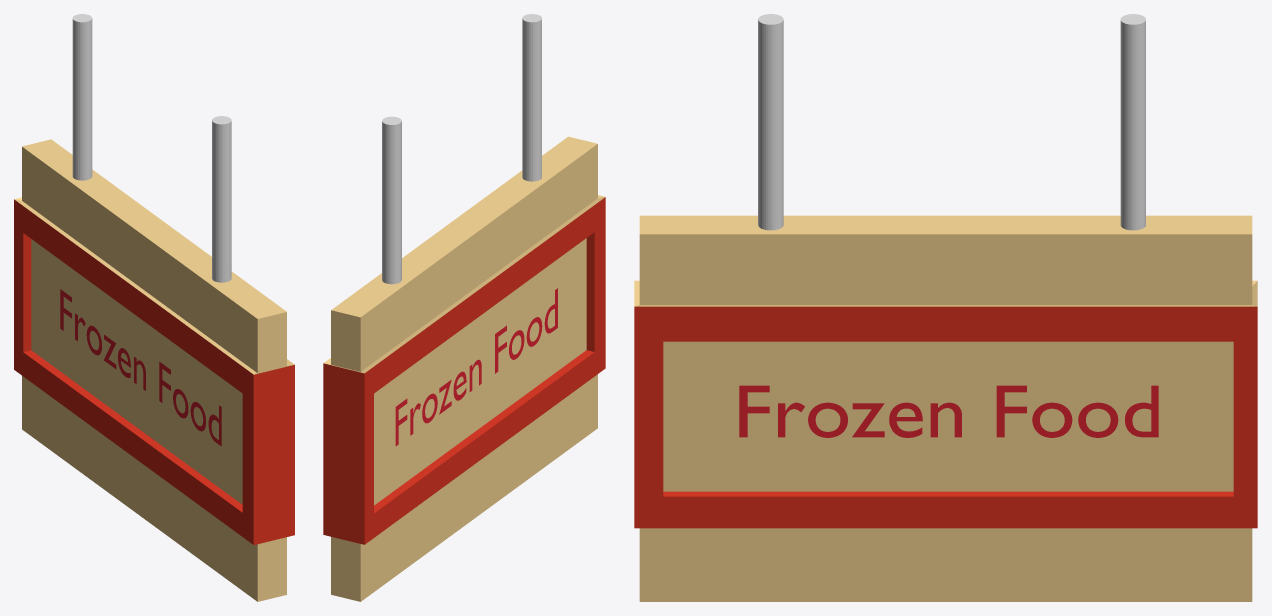
The model's file is frozenFoodSign.fbx.
3 views of the same model, side by side, from view 1: azimuth 30°, elevation 25°; view 2: azimuth 150°, elevation 25°; view 3: azimuth 270°, elevation 25° (orthographic). The views are drawn at different scales.
Parts seen in each view (by area): view 1: baseSign, Cylinder.001, Cylinder.000, BaseText.001; view 2: baseSign, Cylinder.001, Cylinder.000, BaseText.001; view 3: baseSign, BaseText.000, Cylinder.001, Cylinder.000.
Boxes of the visible parts, bbox=[...] form: baseSign: bbox=[14, 139, 294, 601]; Cylinder.001: bbox=[72, 14, 92, 180]; Cylinder.000: bbox=[212, 116, 231, 282]; BaseText.001: bbox=[60, 289, 221, 446]; baseSign: bbox=[323, 136, 605, 601]; Cylinder.001: bbox=[382, 116, 401, 284]; Cylinder.000: bbox=[522, 14, 541, 181]; BaseText.001: bbox=[395, 288, 557, 446]; baseSign: bbox=[634, 215, 1257, 601]; BaseText.000: bbox=[739, 385, 1158, 437]; Cylinder.001: bbox=[1120, 14, 1145, 230]; Cylinder.000: bbox=[758, 14, 783, 230].
Size of the model in its own units: 42.35 by 434 by 427.
